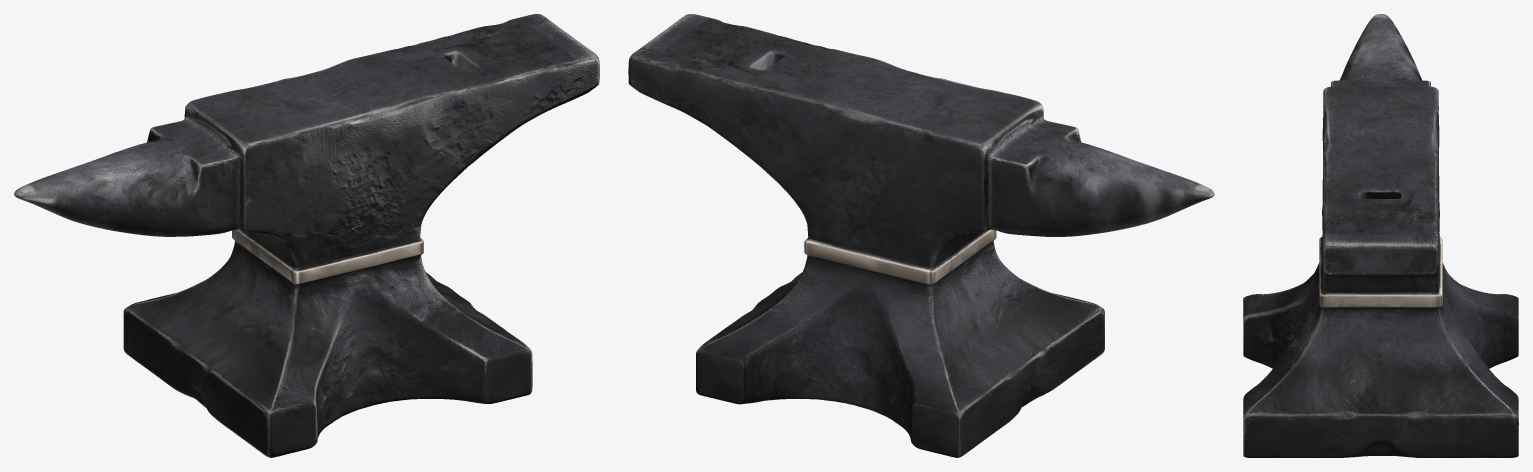
File: anvil.glb
3 renders of one model, left to right at view 1: azimuth 30°, elevation 25°; view 2: azimuth 150°, elevation 25°; view 3: azimuth 270°, elevation 25°, orthographic. The views are drawn at different scales.
Parts seen in each view (by area): view 1: Mesh_0; view 2: Mesh_0; view 3: Mesh_0.
Boxes of the visible parts, x1=… form: Mesh_0: x1=14, y1=14, x2=599, y2=457; Mesh_0: x1=628, y1=14, x2=1214, y2=457; Mesh_0: x1=1243, y1=14, x2=1518, y2=457.
Bounding box in the file's own units: 1.9 × 0.9243 × 0.868.
Materials: 1 (1 with a texture image).
